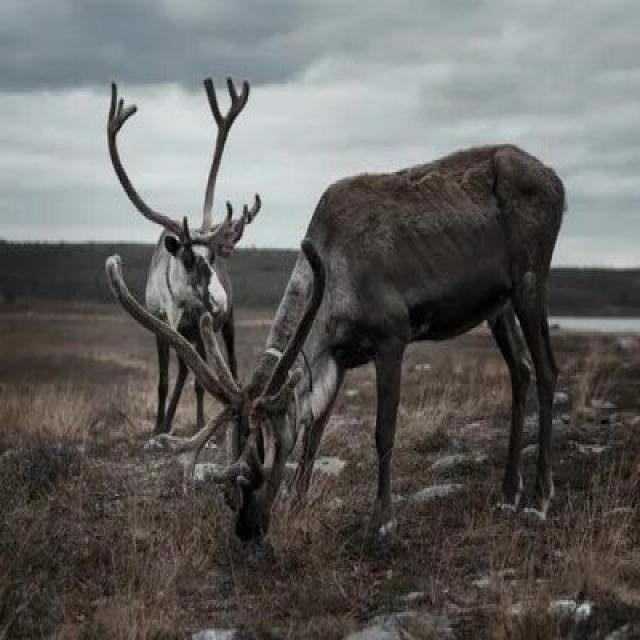deer: (181, 107, 578, 554), (59, 86, 268, 433)
